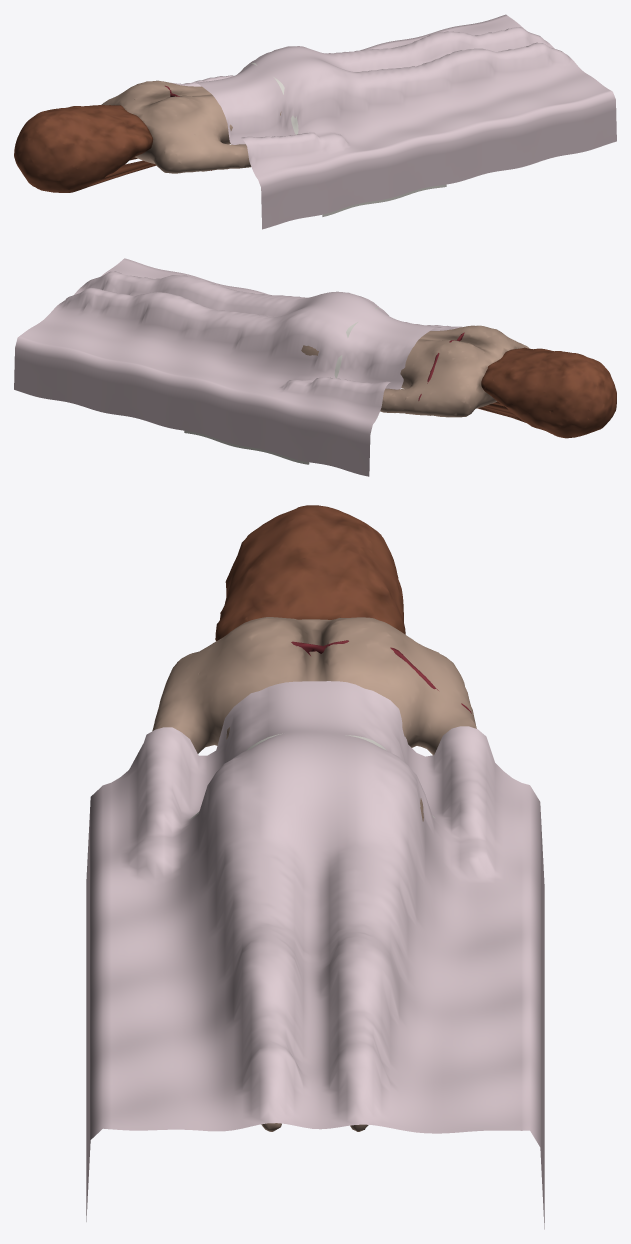
Rendered from kundin_lie.glb.
3 renders of one model, top to bottom at view 1: azimuth 30°, elevation 25°; view 2: azimuth 150°, elevation 25°; view 3: azimuth 270°, elevation 25°, orthographic. The views are drawn at different scales.
Visible parts, largest first — view 1: robe, hair, body, towel; view 2: robe, hair, body, towel; view 3: robe, body, hair.
Boxes of the visible parts, bbox=[...] form: robe: bbox=[170, 14, 616, 229]; hair: bbox=[14, 105, 156, 192]; body: bbox=[101, 80, 281, 173]; towel: bbox=[251, 62, 446, 216]; robe: bbox=[14, 258, 462, 476]; hair: bbox=[477, 347, 616, 438]; body: bbox=[301, 325, 529, 417]; towel: bbox=[184, 307, 378, 464]; robe: bbox=[86, 681, 544, 1229]; body: bbox=[152, 617, 476, 1131]; hair: bbox=[215, 505, 405, 640].
Bounding box in the file's own units: 1.93 × 0.3975 × 0.7092.
